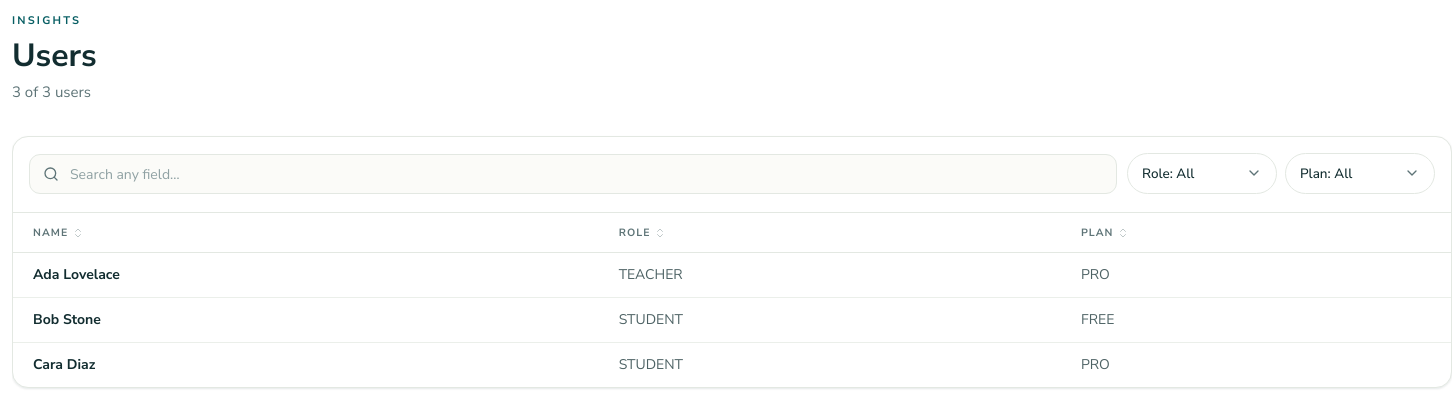
Test: DataTable › uses a custom cell renderer for display while the search still works
Expected: the number of elements with test id "plan-badge" is 3, [1081,265,1110,284]; [1081,310,1114,329]; [1081,355,1110,374]
# Searching by the plan text (its accessor defaults to row.plan) still filters
Type "FREE" into the field with placeholder "Search any field…". click: (573, 174)
box: [29,154,1117,194]
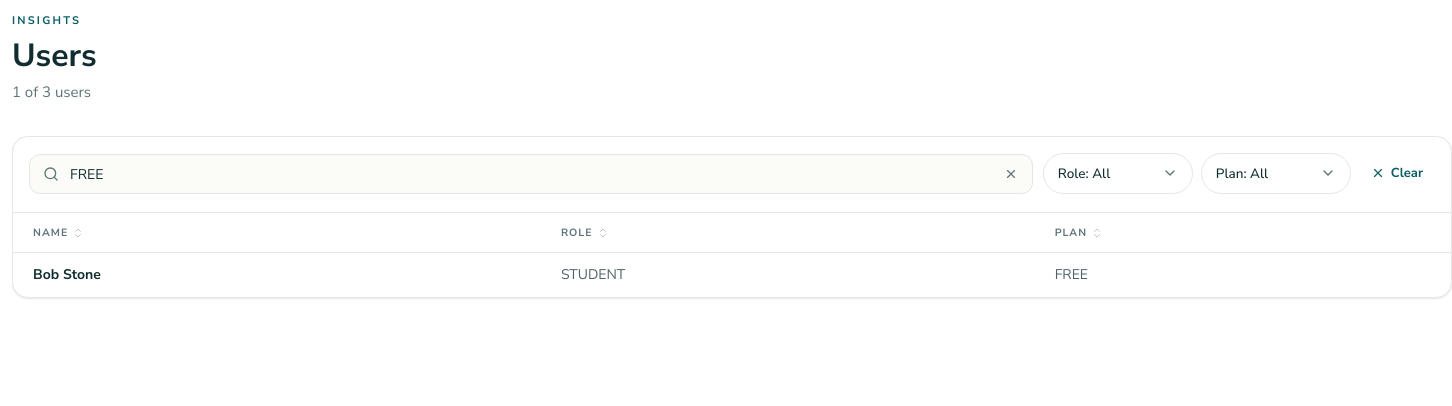
Expected: the text "Bob Stone" is shown, [13,253,545,297]
Result: the text "Ada Lovelace" is gone
